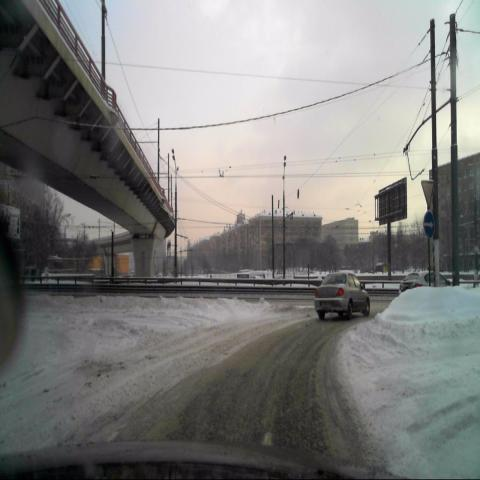2_4: (421, 180, 434, 210)
4_1_2_1: (424, 211, 434, 237)
